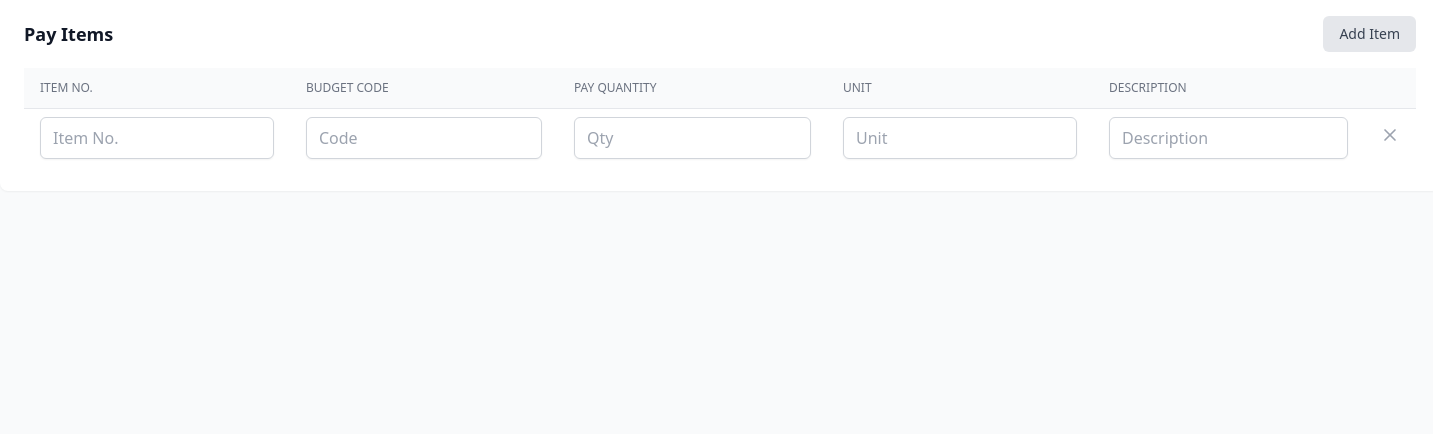
Scenario: PayItemsSection — picker › Escape in the search box or a click outside closes it
This screenshot has width=1433, height=434.
Click the button "Add Item" at (1370, 34), box left=1323, top=16, right=1416, bottom=52
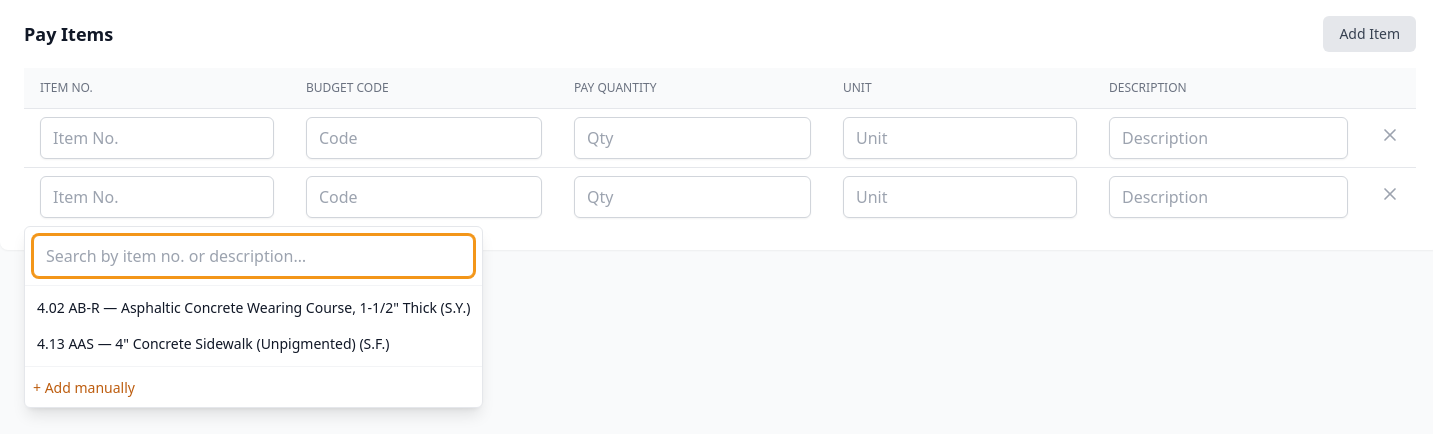
Press Escape
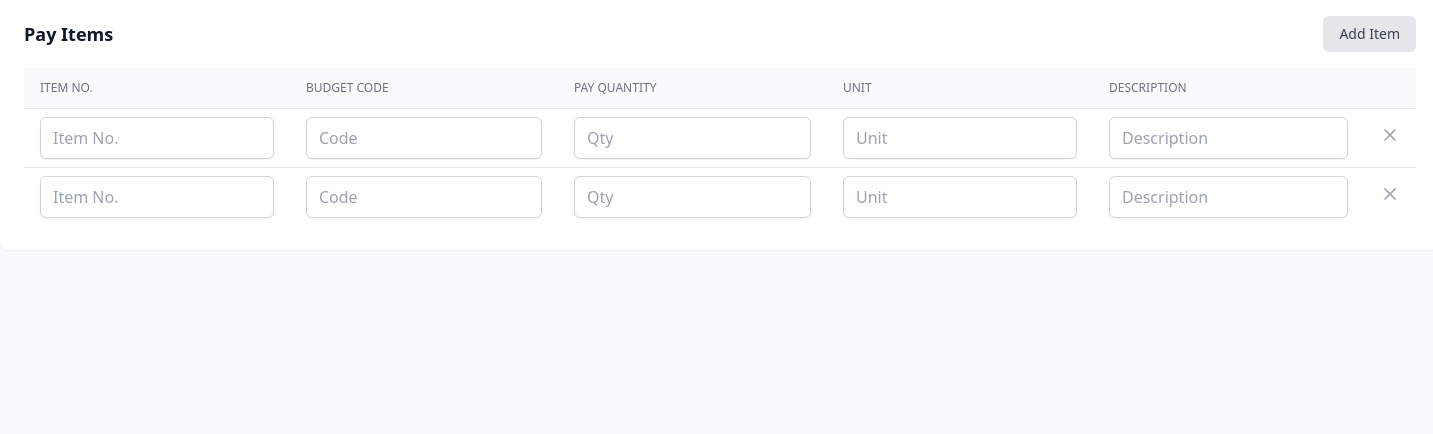
Expected: the element with test id "pay-item-picker" is gone
Click the 1st field with placeholder "Item No." at (157, 138), box left=40, top=117, right=274, bottom=159
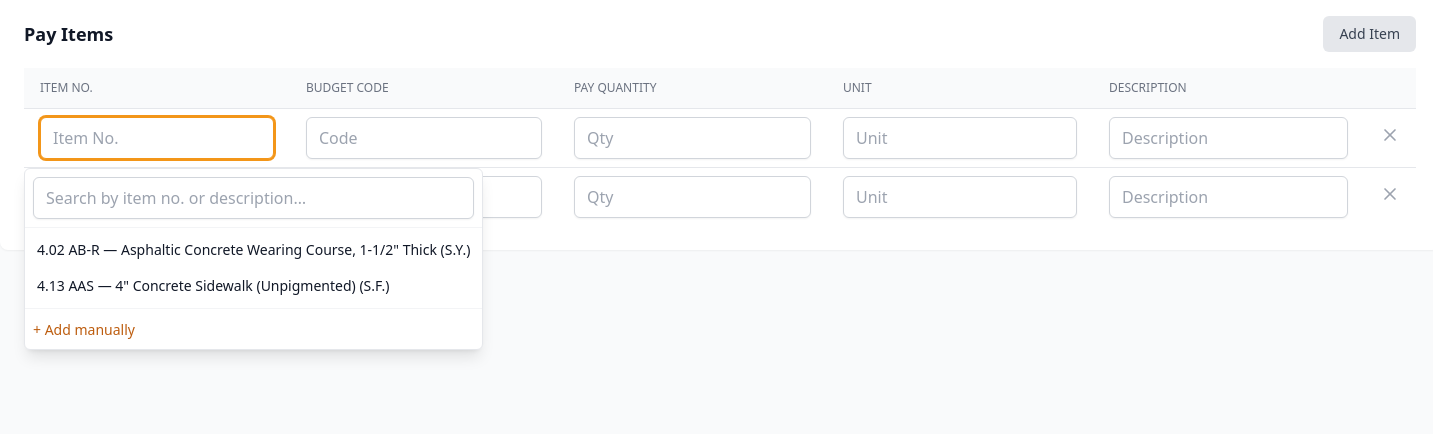
Expected: the element with test id "pay-item-picker" is shown, left=24, top=168, right=483, bottom=350
Click the 1st field with placeholder "Qty" at (692, 138), box left=574, top=117, right=811, bottom=159
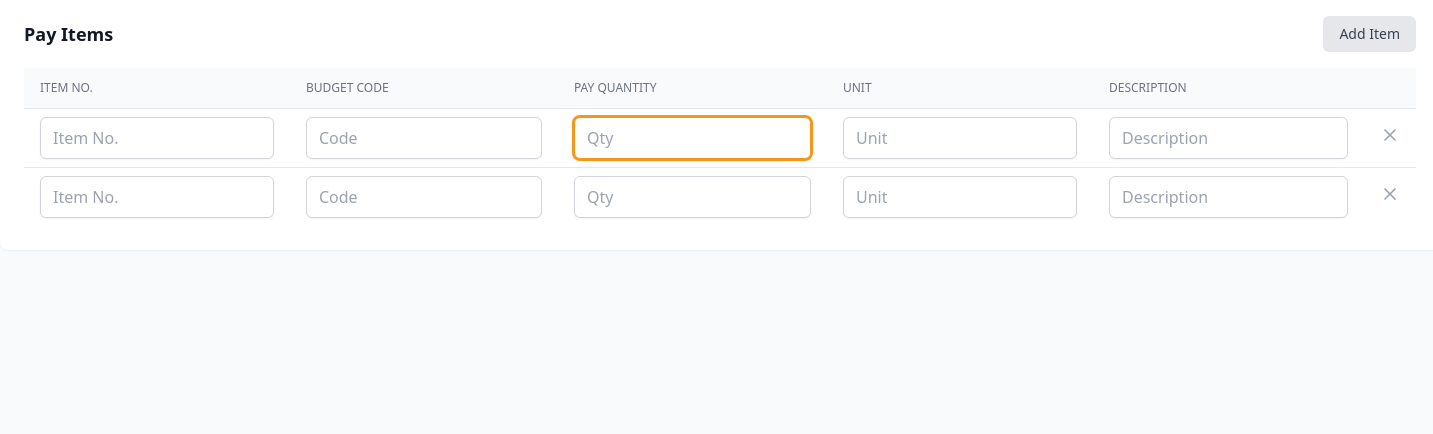
Expected: the element with test id "pay-item-picker" is gone
